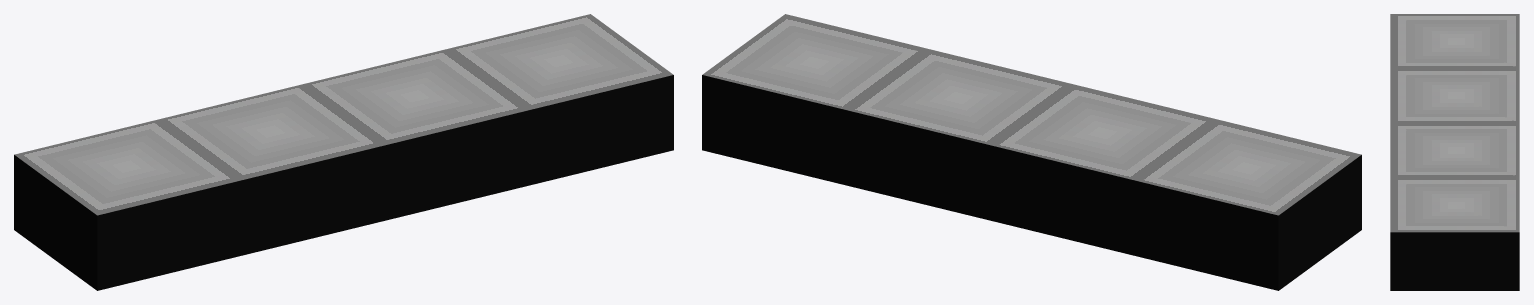
The model's file is StripNoWall.gltf.
The picture shows the model from 3 angles, left to right: view 1: azimuth 30°, elevation 25°; view 2: azimuth 150°, elevation 25°; view 3: azimuth 270°, elevation 25°; orthographic projection. The views are drawn at different scales.
Parts seen in each view (by area): view 1: StripNoWall; view 2: StripNoWall; view 3: StripNoWall.
Part boxes in pixels (left/top/right/bottom): StripNoWall: left=14, top=14, right=673, bottom=290; StripNoWall: left=702, top=14, right=1361, bottom=290; StripNoWall: left=1390, top=14, right=1519, bottom=290.
Bounding box in the file's own units: 8 × 1 × 2.
Materials: 2 (1 with a texture image).
